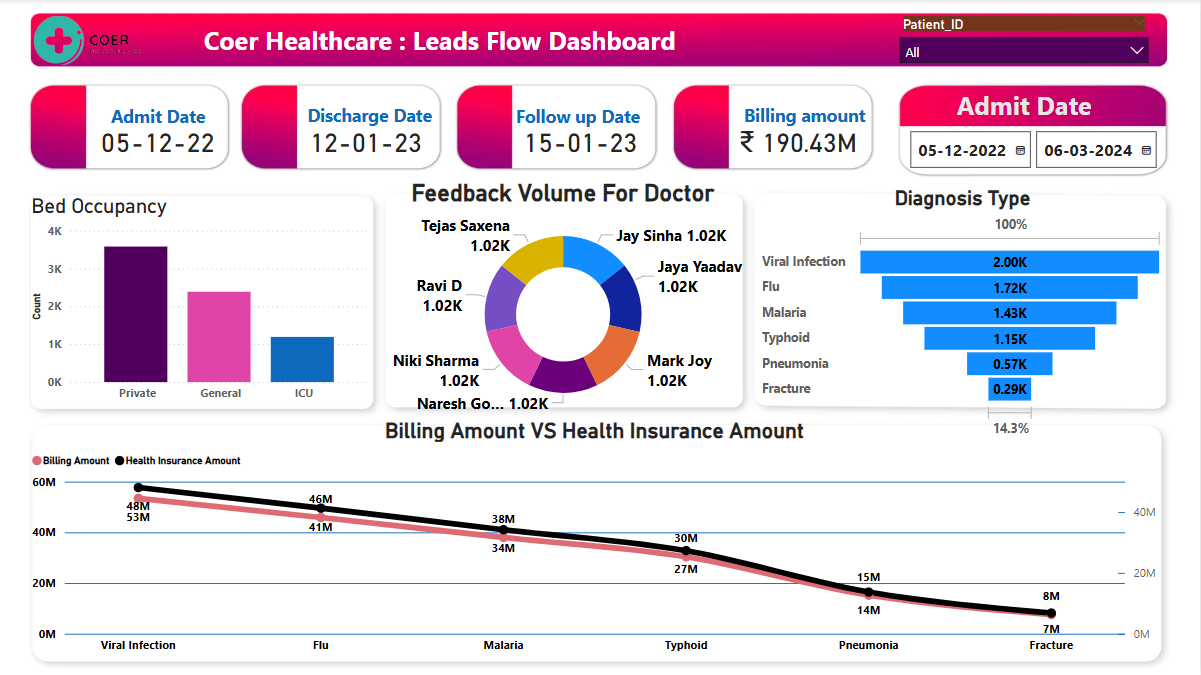

The dashboard page shown, as its layout file describes it:
{"tool":"powerbi","page":{"name":"Page 1","canvas":[1280,720],"ordinal":0},"visuals":[{"type":"textbox","box":[214.4,20,594.4,50],"z":0},{"type":"image","box":[30.3,12.7,128.7,62],"z":1000},{"type":"slicer","fields":{"Values":["Sheet1.Patient_ID"]},"box":[950.5,12.5,284.5,57.5],"z":2000},{"type":"card","fields":{"Values":["Sheet1.Admit_Date"]},"box":[95.4,131.5,147.7,40.8],"z":3000},{"type":"textbox","box":[114.5,106.4,164.5,50],"z":4000},{"type":"textbox","box":[324.7,105.9,151.8,50],"z":5000},{"type":"card","fields":{"Values":["Sheet1.Discharge_Date"]},"box":[317.1,131.4,147.1,40.7],"z":6000},{"type":"textbox","box":[546.7,106.7,152.5,50],"z":7000},{"type":"card","fields":{"Values":["Sheet1.Followup Date"]},"box":[546.4,131.4,147.1,40.7],"z":8000},{"type":"card","fields":{"Values":["Sheet1.Billing Amount"]},"box":[778.6,131.4,147.1,41.4],"z":9000},{"type":"textbox","box":[788.8,105.9,151.8,50],"z":10000},{"type":"slicer","fields":{"Values":["Sheet1.Admit_Date"]},"box":[958,130.7,282,54],"z":11000},{"type":"textbox","box":[1016,90,198.7,46],"z":12000},{"type":"columnChart","title":" Bed Occupancy","fields":{"Category":["Sheet1.Bed_Occupancy"],"Y":["Sheet1.Bed_Occupancy"]},"box":[30,207.5,371.2,230],"z":13000},{"type":"donutChart","title":"Feedback Volume For Doctor","fields":{"Category":["Sheet1.Doctor"],"Y":["Sheet1.Doctor"]},"box":[407.5,192.5,388.3,259.2],"z":14000},{"type":"funnel","title":"Diagnosis Type","fields":{"Category":["Sheet1.Diagnosis"],"Y":["Sheet1.Diagnosis"]},"box":[808,200,438,271],"z":15000},{"type":"lineChart","title":"Billing Amount VS Health Insurance Amount","fields":{"Y":["Sheet1.Billing Amount"],"Y2":["Sheet1.Health Insurance Amount"],"Category":["Sheet1.Diagnosis"]},"box":[30,445,1210,260],"z":16000}]}

Visuals, with their boxes in screenshot pixels (x1, y1, x2, y2), scaled from the page's 1280x720 canvas onto the 1201x675 screenshot:
textbox: bbox(201, 19, 759, 66)
image: bbox(28, 12, 149, 70)
slicer - Sheet1.Patient_ID: bbox(892, 12, 1159, 66)
card - Sheet1.Admit_Date: bbox(90, 123, 228, 162)
textbox: bbox(107, 100, 262, 147)
textbox: bbox(305, 99, 447, 146)
card - Sheet1.Discharge_Date: bbox(298, 123, 436, 161)
textbox: bbox(513, 100, 656, 147)
card - Sheet1.Followup Date: bbox(513, 123, 651, 161)
card - Sheet1.Billing Amount: bbox(731, 123, 869, 162)
textbox: bbox(740, 99, 883, 146)
slicer - Sheet1.Admit_Date: bbox(899, 123, 1163, 173)
textbox: bbox(953, 84, 1140, 128)
" Bed Occupancy" columnChart: bbox(28, 195, 376, 410)
"Feedback Volume For Doctor" donutChart: bbox(382, 180, 747, 423)
"Diagnosis Type" funnel: bbox(758, 188, 1169, 442)
"Billing Amount VS Health Insurance Amount" lineChart: bbox(28, 417, 1163, 661)
